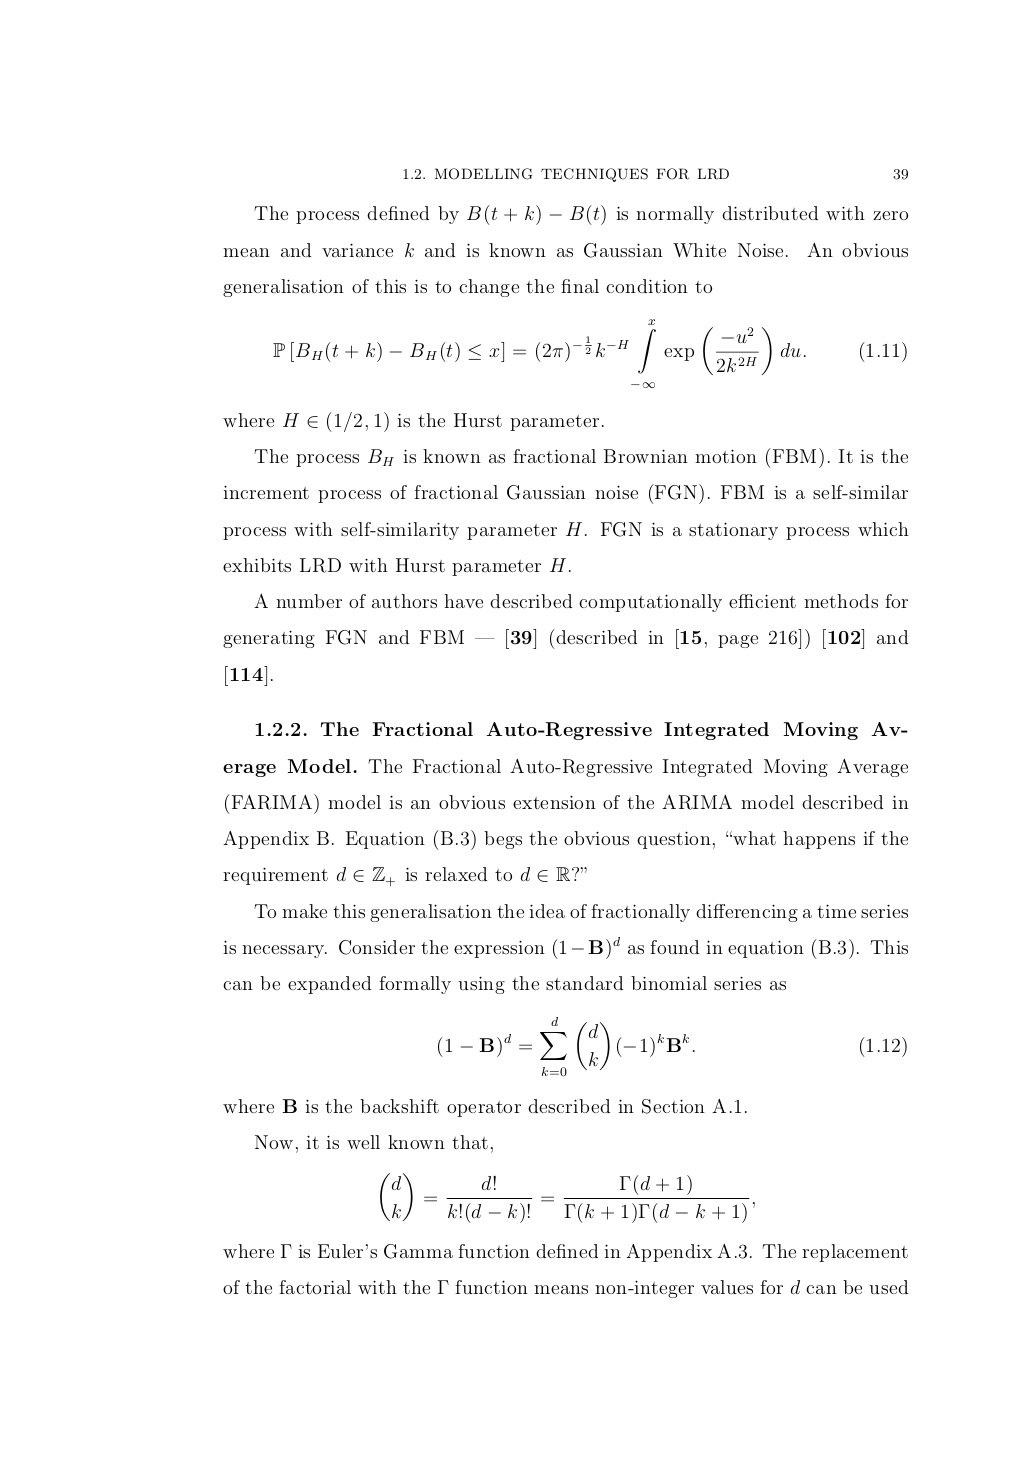formula: (273, 319, 906, 388), (439, 1016, 906, 1078), (380, 1172, 754, 1223)
